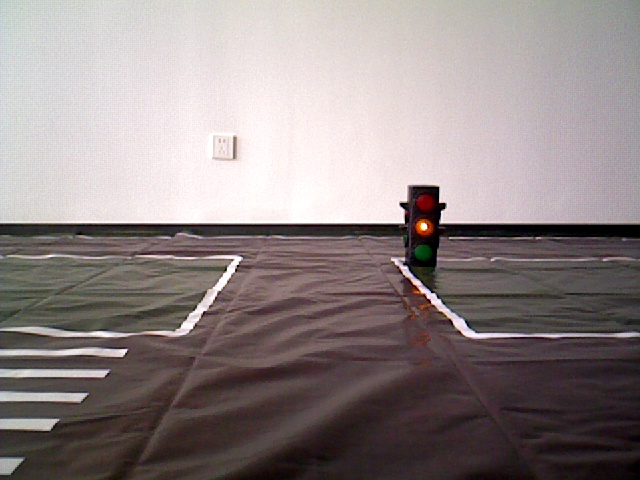yellow: (404, 185, 443, 265)
